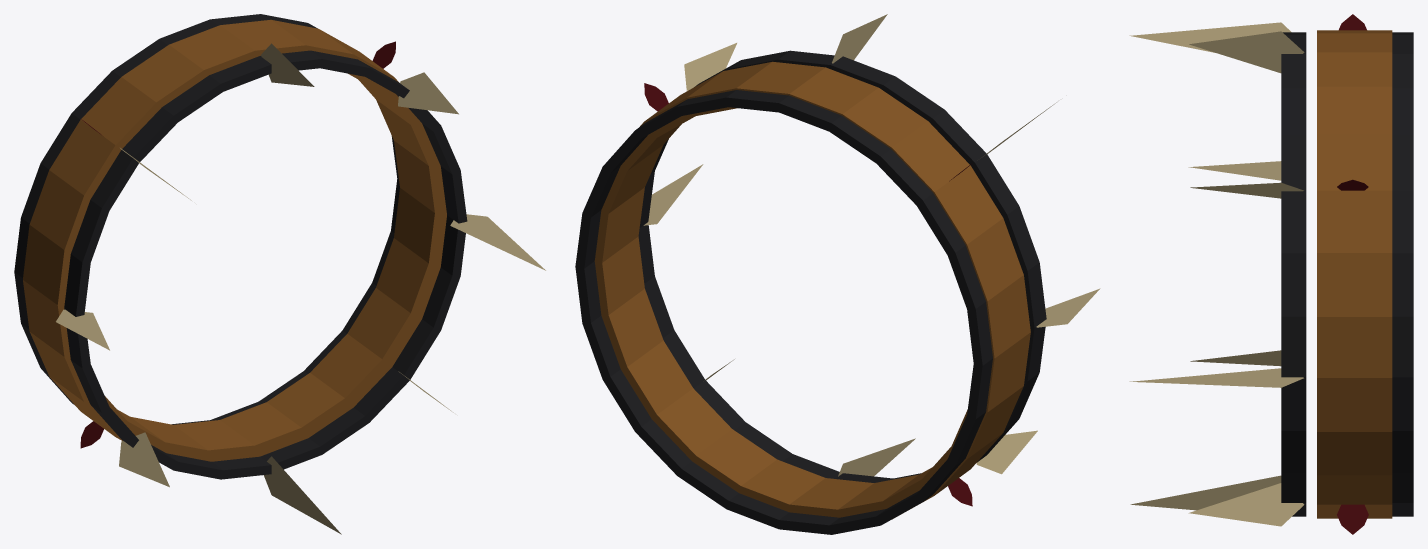
The model's file is crown_lod1.obj.
The picture shows the model from 3 angles, left to right: view 1: azimuth 30°, elevation 25°; view 2: azimuth 150°, elevation 25°; view 3: azimuth 270°, elevation 25°; orthographic projection. The views are drawn at different scales.
Parts seen in each view (by area): view 1: part_0, part_1, part_2, part_9, part_3, part_4, part_8, part_5, part_7; view 2: part_0, part_2, part_1, part_8, part_4, part_9, part_3, part_5, part_7; view 3: part_0, part_1, part_2, part_10, part_5, part_9, part_6, part_3, part_7, part_4, part_8, part_14.
Boxes of the visible parts, box(x1,y1,x2,y2) form: part_0: box(23, 19, 446, 461); part_1: box(64, 50, 467, 479); part_2: box(14, 14, 399, 424); part_9: box(263, 456, 341, 534); part_3: box(450, 214, 545, 270); part_4: box(398, 72, 458, 114); part_8: box(119, 432, 169, 487); part_5: box(261, 43, 314, 86); part_7: box(56, 309, 109, 350); part_0: box(594, 61, 1030, 519); part_2: box(575, 90, 992, 534); part_1: box(638, 50, 1046, 482); part_8: box(976, 430, 1037, 474); part_4: box(684, 43, 736, 90); part_9: box(838, 438, 915, 476); part_3: box(643, 164, 703, 225); part_5: box(832, 14, 887, 63); part_7: box(1036, 288, 1100, 327); part_0: box(1317, 30, 1392, 518); part_1: box(1281, 32, 1306, 516); part_2: box(1392, 32, 1413, 516); part_10: box(1188, 483, 1304, 526); part_5: box(1189, 31, 1304, 73); part_9: box(1130, 475, 1281, 510); part_6: box(1129, 22, 1291, 52); part_3: box(1129, 368, 1303, 387); part_7: box(1188, 161, 1281, 180); part_4: box(1190, 182, 1303, 198); part_8: box(1190, 350, 1281, 366); part_14: box(1337, 504, 1368, 534).
Bounding box in the file's own units: 0.3 × 0.3 × 0.159.
